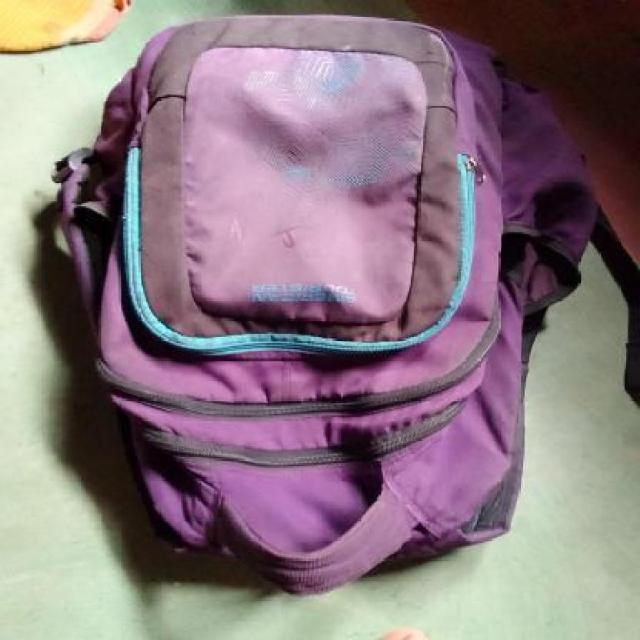backpack: (46, 9, 605, 602)
